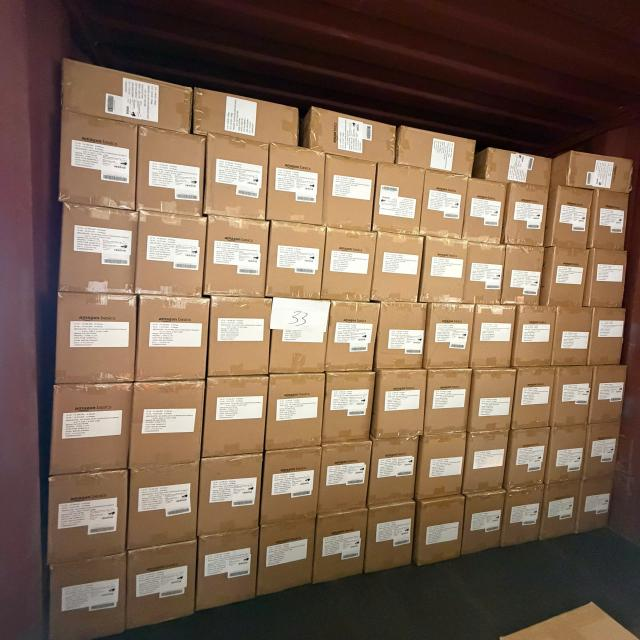Carton: (62, 56, 196, 131), (57, 107, 135, 210), (46, 472, 128, 566), (53, 294, 135, 388), (48, 383, 130, 475), (59, 204, 136, 296), (47, 557, 127, 640), (130, 379, 203, 469), (124, 540, 196, 630), (134, 295, 207, 383), (127, 464, 198, 552), (136, 127, 204, 215), (192, 91, 296, 148), (136, 212, 204, 298), (204, 136, 267, 222), (196, 454, 260, 538), (194, 528, 257, 612), (204, 216, 267, 298), (204, 378, 268, 458), (207, 295, 268, 377), (308, 108, 397, 163), (262, 446, 322, 526), (266, 221, 324, 301), (268, 142, 323, 226), (257, 519, 315, 598), (271, 300, 330, 377), (264, 375, 322, 453), (314, 508, 371, 586), (318, 443, 371, 518), (326, 155, 376, 232), (325, 229, 376, 304), (325, 371, 376, 445), (364, 504, 416, 576), (395, 129, 473, 177), (328, 300, 379, 373), (372, 369, 424, 440), (413, 498, 463, 570), (372, 232, 422, 304), (373, 301, 424, 371), (373, 162, 421, 236), (564, 148, 638, 194), (414, 435, 464, 503), (370, 441, 419, 509), (425, 305, 473, 372), (420, 170, 464, 240), (425, 366, 470, 433), (482, 145, 555, 186), (421, 238, 465, 306), (469, 370, 514, 436), (464, 492, 508, 558), (466, 434, 511, 497), (474, 305, 516, 370), (501, 485, 544, 548), (550, 184, 592, 248), (466, 177, 506, 244), (512, 368, 553, 433), (505, 430, 549, 490), (504, 183, 545, 246), (546, 250, 588, 310), (513, 307, 553, 370), (552, 366, 592, 428), (468, 242, 506, 306), (546, 427, 587, 486), (587, 250, 627, 309), (503, 248, 542, 308), (543, 482, 583, 540), (583, 422, 624, 478), (554, 310, 591, 369), (590, 190, 626, 249), (588, 308, 623, 368), (588, 367, 624, 425), (576, 478, 611, 534)
